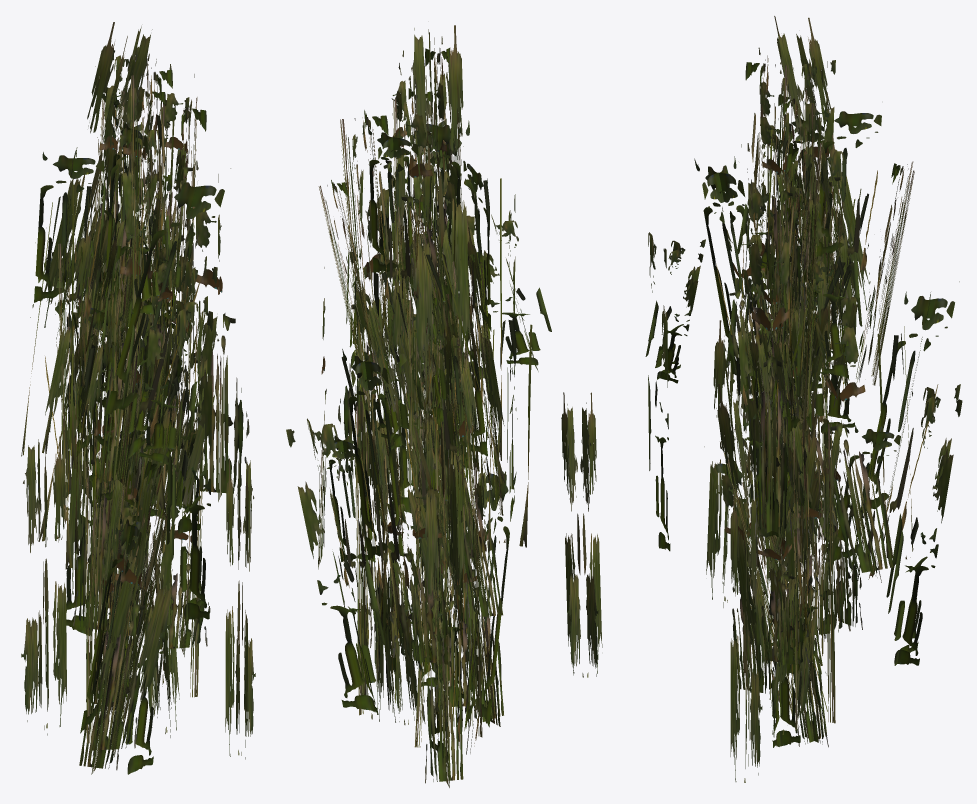
Rendered from reed-grass-lod1.glb.
3 renders of one model, left to right at view 1: azimuth 30°, elevation 25°; view 2: azimuth 150°, elevation 25°; view 3: azimuth 270°, elevation 25°, orthographic.
Visible parts, largest first — view 1: foliage; view 2: foliage; view 3: foliage.
Boxes of the visible parts, left/top/right/bottom form: foliage: left=21, top=22, right=255, bottom=774; foliage: left=286, top=25, right=602, bottom=787; foliage: left=645, top=16, right=962, bottom=782.
Bounding box in the file's own units: 0.6137 × 1.71 × 0.697.
Materials: 1 (1 with a texture image).
